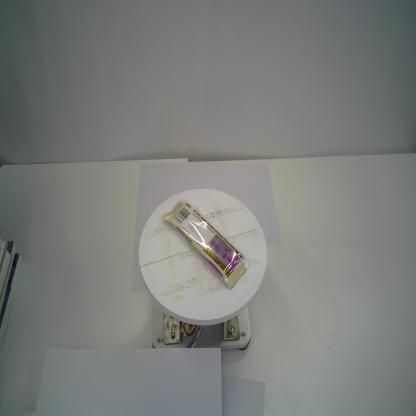Chocolate: (162, 200, 250, 290)
